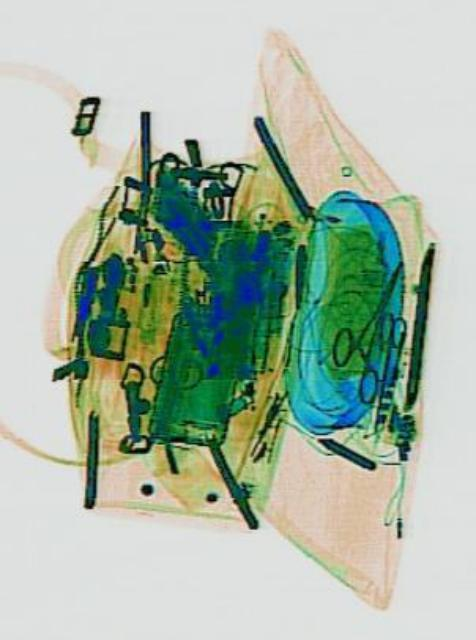Scissors: (315, 244, 426, 404), (355, 306, 406, 442)
